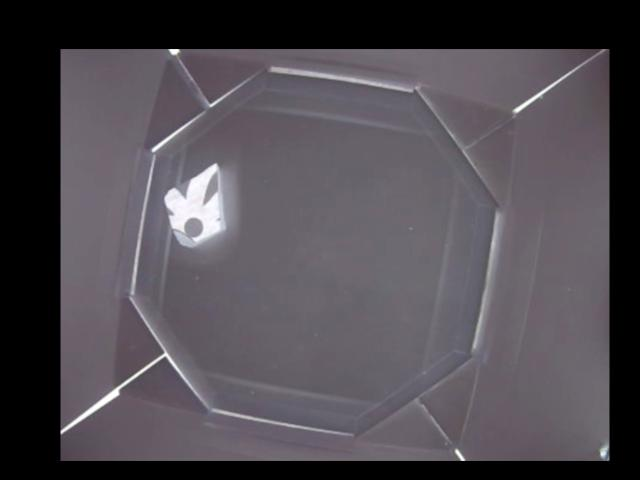China: (160, 162, 226, 243)
